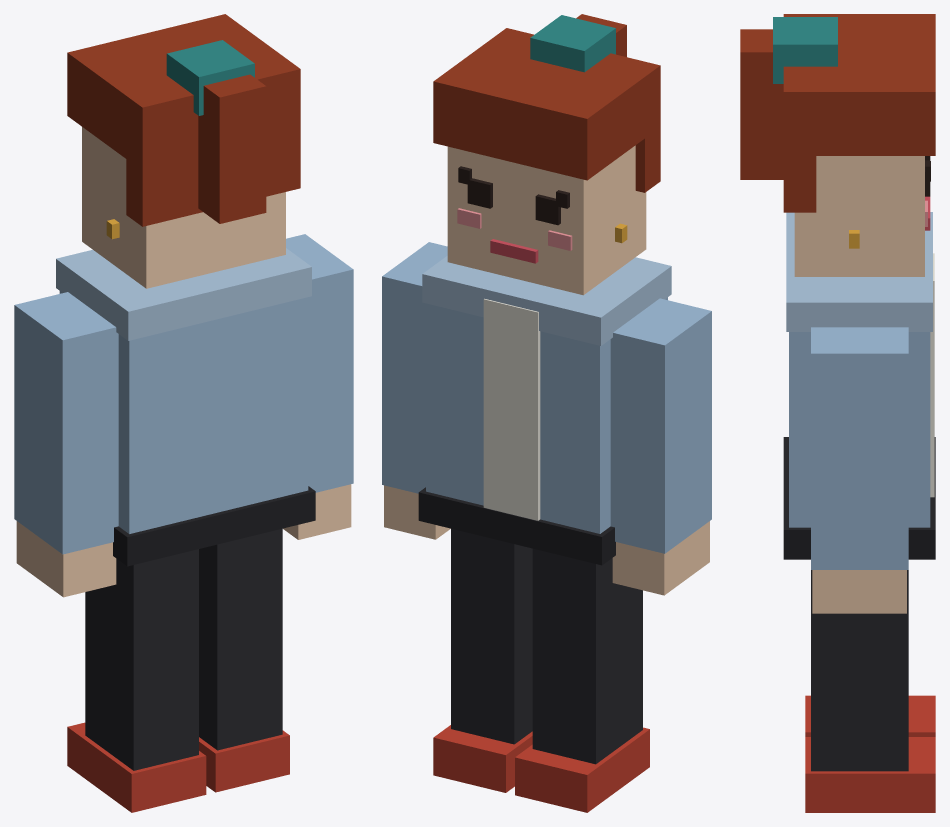
The model's file is millers_kid.glb.
3 views of the same model, side by side, from view 1: azimuth 30°, elevation 25°; view 2: azimuth 150°, elevation 25°; view 3: azimuth 270°, elevation 25° (orthographic). The views are drawn at different scales.
Parts seen in each view (by area): view 1: Box9, Box3, Box1, Box24, Box5, Box14, Box11, Box7, Box27, Box25, Box12, Box2 (+4 smaller); view 2: Box9, Box3, Box24, Box1, Box14, Box5, Box10, Box11, Box7, Box2, Box12, Box6 (+8 smaller); view 3: Box7, Box24, Box5, Box14, Box9, Box11, Box6, Box27, Box8, Box26, Box12, Box25 (+2 smaller).
Part boxes in pixels (x1,y1,x2,y2): Box9: (59,291,308,533); Box3: (14,292,118,554); Box1: (85,549,198,770); Box24: (67,14,300,170); Box5: (199,528,282,750); Box14: (82,127,285,288); Box11: (56,248,311,340); Box7: (286,234,353,492); Box27: (198,74,266,223); Box25: (126,101,300,226); Box12: (113,486,315,566); Box2: (67,722,206,812); Box9: (426,297,667,533); Box3: (610,298,711,553); Box24: (433,28,660,180); Box1: (532,548,642,764); Box14: (447,145,646,295); Box5: (451,528,532,744); Box10: (483,298,540,520); Box11: (422,256,671,345); Box7: (382,242,447,493); Box2: (515,727,649,812); Box12: (418,487,615,565); Box6: (433,725,532,792); Box7: (811,327,908,569); Box24: (783,14,935,155); Box5: (811,570,908,771); Box14: (794,156,924,276); Box9: (789,332,930,527); Box11: (786,212,932,331); Box6: (805,737,935,812); Box27: (740,29,783,179); Box8: (812,570,906,613); Box26: (773,17,837,83); Box12: (783,437,935,559); Box25: (783,124,816,212).
Size of the model in its own units: 0.6563 by 1.59 by 0.378.
